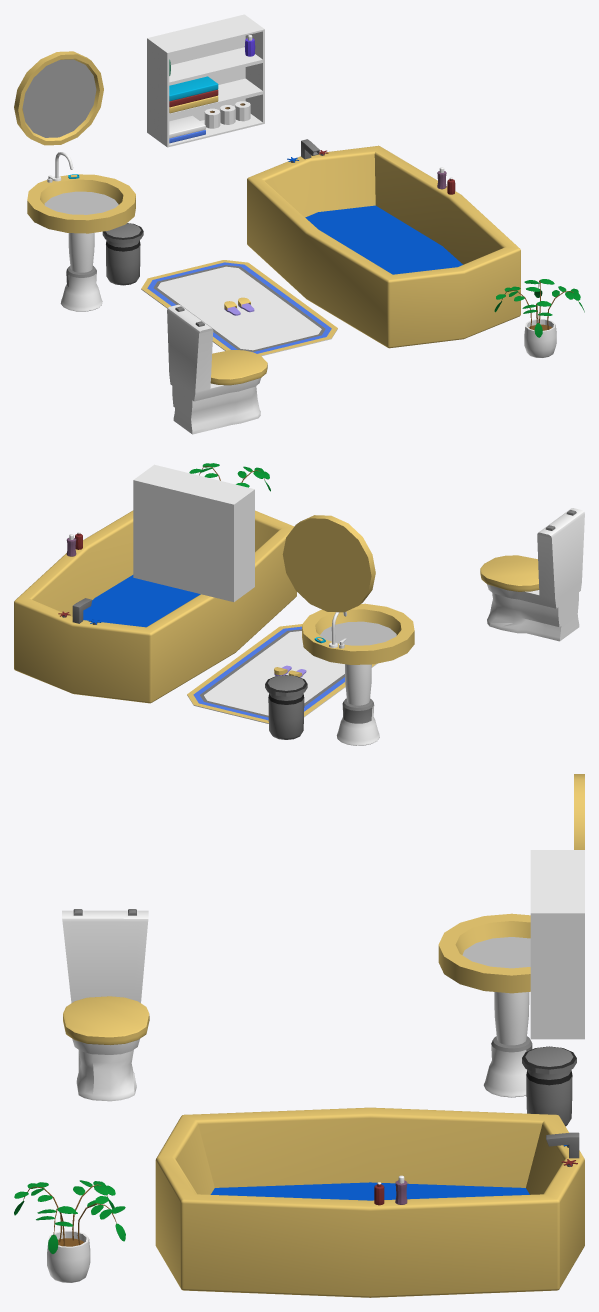
The model's file is Bathroom.fbx.
3 views of the same model, one above another, from view 1: azimuth 30°, elevation 25°; view 2: azimuth 150°, elevation 25°; view 3: azimuth 270°, elevation 25° (orthographic). The views are drawn at different scales.
Parts seen in each view (by area): view 1: Bathroom, Bathroom.004, Bathroom.005, Bathroom.006, Bathroom.002, Bathroom.001, Bathroom.003; view 2: Bathroom, Bathroom.004, Bathroom.005, Bathroom.002, Bathroom.006, Bathroom.003, Bathroom.001; view 3: Bathroom, Bathroom.002, Bathroom.004, Bathroom.005, Bathroom.001, Bathroom.003.
Boxes of the visible parts, bbox=[...] form: Bathroom: bbox=[247, 139, 520, 348]; Bathroom.004: bbox=[14, 51, 135, 311]; Bathroom.005: bbox=[147, 14, 264, 147]; Bathroom.006: bbox=[141, 260, 337, 356]; Bathroom.002: bbox=[167, 304, 267, 434]; Bathroom.001: bbox=[494, 279, 584, 357]; Bathroom.003: bbox=[102, 223, 143, 285]; Bathroom: bbox=[14, 510, 296, 703]; Bathroom.004: bbox=[282, 515, 414, 745]; Bathroom.005: bbox=[133, 464, 254, 601]; Bathroom.002: bbox=[480, 508, 584, 641]; Bathroom.006: bbox=[187, 624, 377, 723]; Bathroom.003: bbox=[265, 675, 307, 739]; Bathroom.001: bbox=[189, 463, 270, 491]; Bathroom: bbox=[155, 1107, 584, 1297]; Bathroom.002: bbox=[62, 909, 149, 1101]; Bathroom.004: bbox=[438, 774, 584, 1097]; Bathroom.005: bbox=[530, 850, 584, 1039]; Bathroom.001: bbox=[14, 1180, 125, 1282]; Bathroom.003: bbox=[522, 1046, 576, 1126].
Bounding box in the file's own units: 1.15 × 0.6642 × 1.12.
Materials: 1 (1 with a texture image).
